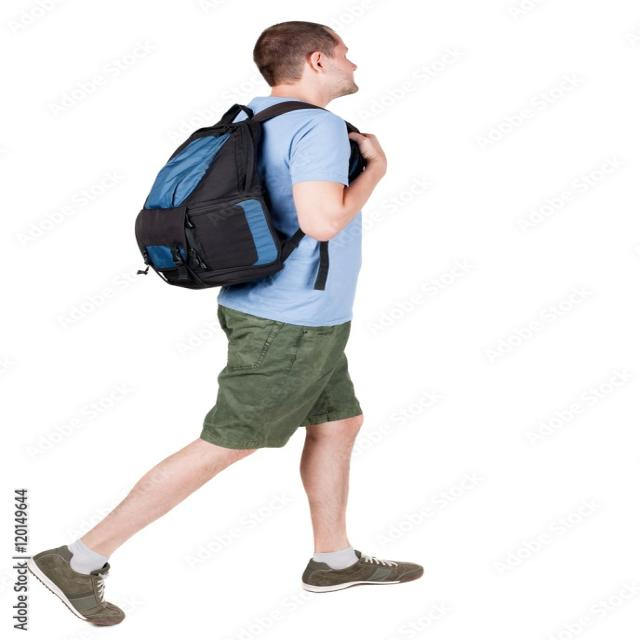backpack: (134, 101, 365, 291)
